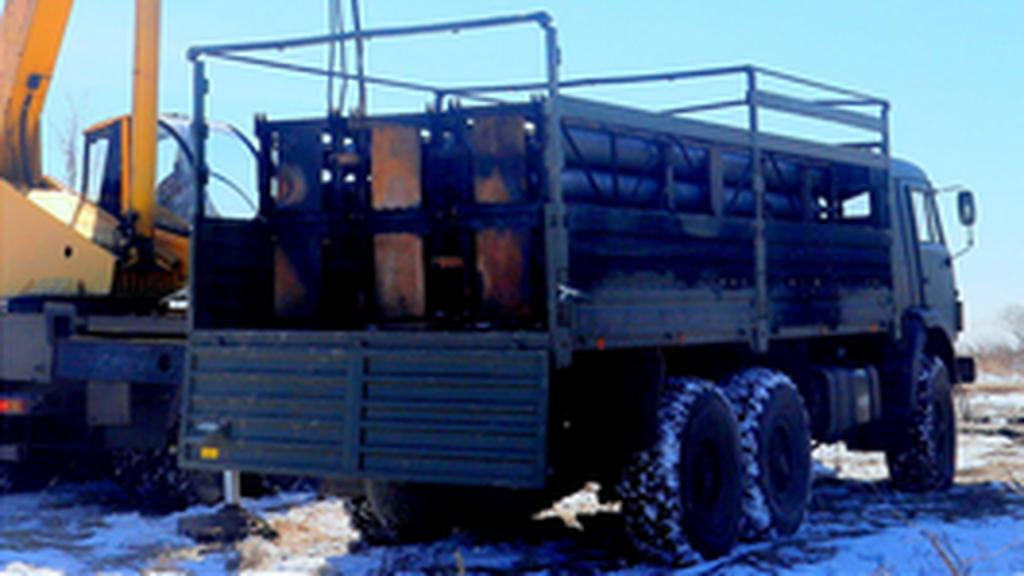TRUCK: (168, 22, 972, 568)
